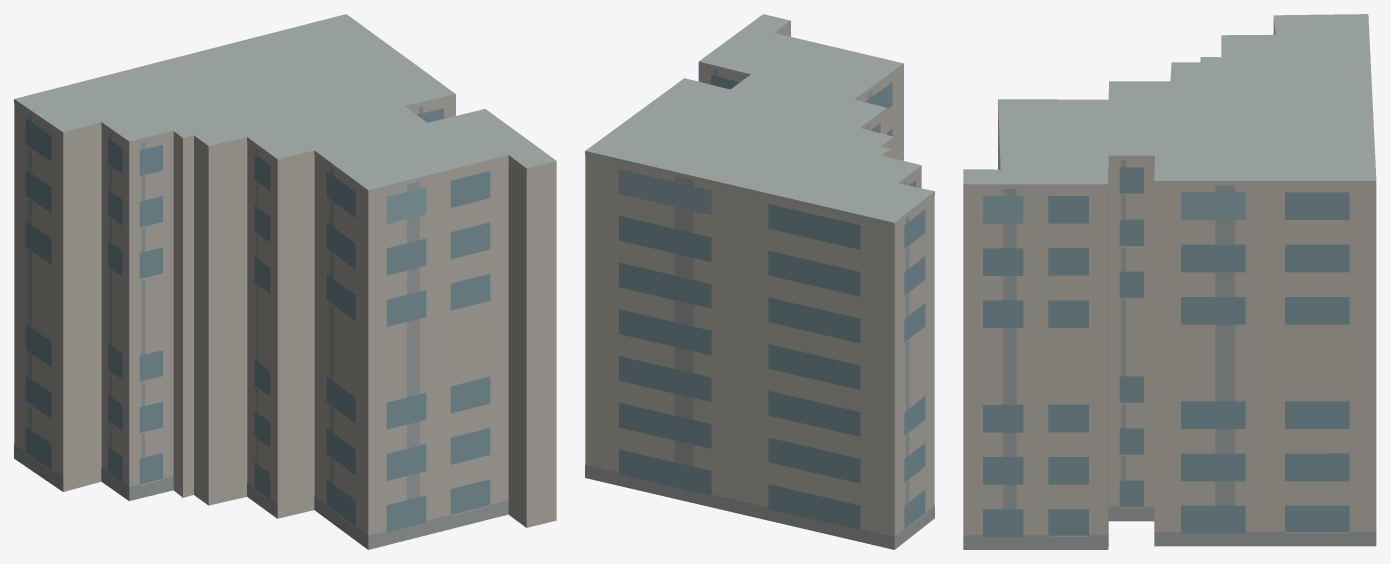
File: survey-upis-33044222.glb
3 renders of one model, left to right at view 1: azimuth 30°, elevation 25°; view 2: azimuth 150°, elevation 25°; view 3: azimuth 270°, elevation 25°, orthographic. The views are drawn at different scales.
Parts seen in each view (by area): view 1: survey-upis-33044222.tmp; view 2: survey-upis-33044222.tmp; view 3: survey-upis-33044222.tmp.
Boxes of the visible parts, <box> form: survey-upis-33044222.tmp: <box>14,14,556,549</box>; survey-upis-33044222.tmp: <box>585,14,934,549</box>; survey-upis-33044222.tmp: <box>963,14,1376,549</box>.
Bounding box in the file's own units: 20.01 × 20 × 20.49.
